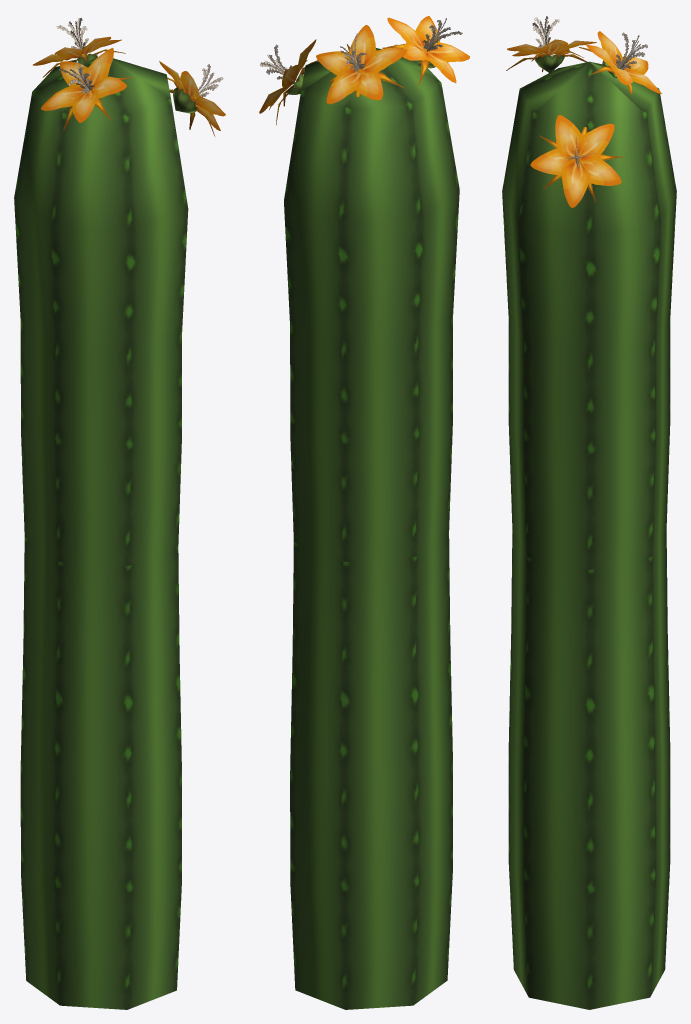
Rendered from Ctn_cactus_01_v01_flowers.FBX.
3 renders of one model, left to right at view 1: azimuth 30°, elevation 25°; view 2: azimuth 150°, elevation 25°; view 3: azimuth 270°, elevation 25°, orthographic.
Parts seen in each view (by area): view 1: Ctn_cactus_01_v01_flowers; view 2: Ctn_cactus_01_v01_flowers; view 3: Ctn_cactus_01_v01_flowers.
Part boxes in pixels (x1,y1,x2,y2): Ctn_cactus_01_v01_flowers: [14, 18, 225, 1009]; Ctn_cactus_01_v01_flowers: [259, 16, 469, 1009]; Ctn_cactus_01_v01_flowers: [502, 16, 676, 1009].
Size of the model in its own units: 26.16 by 124 by 20.74.
